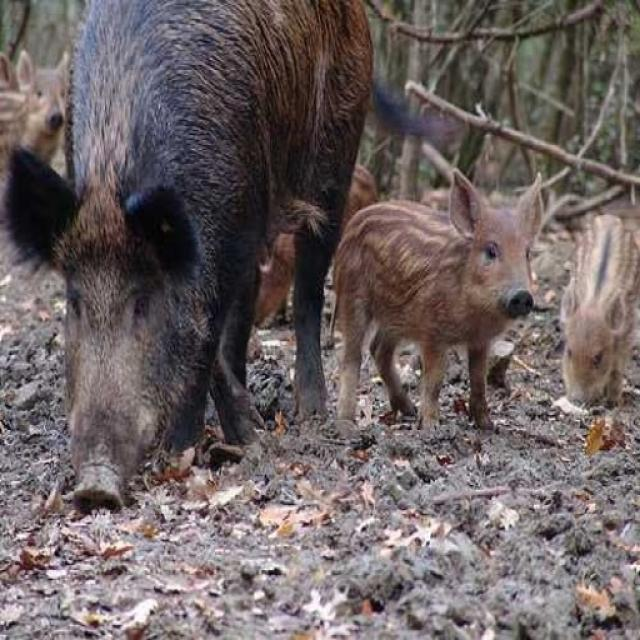pig: (8, 0, 338, 586), (346, 154, 542, 434), (529, 210, 640, 460)
